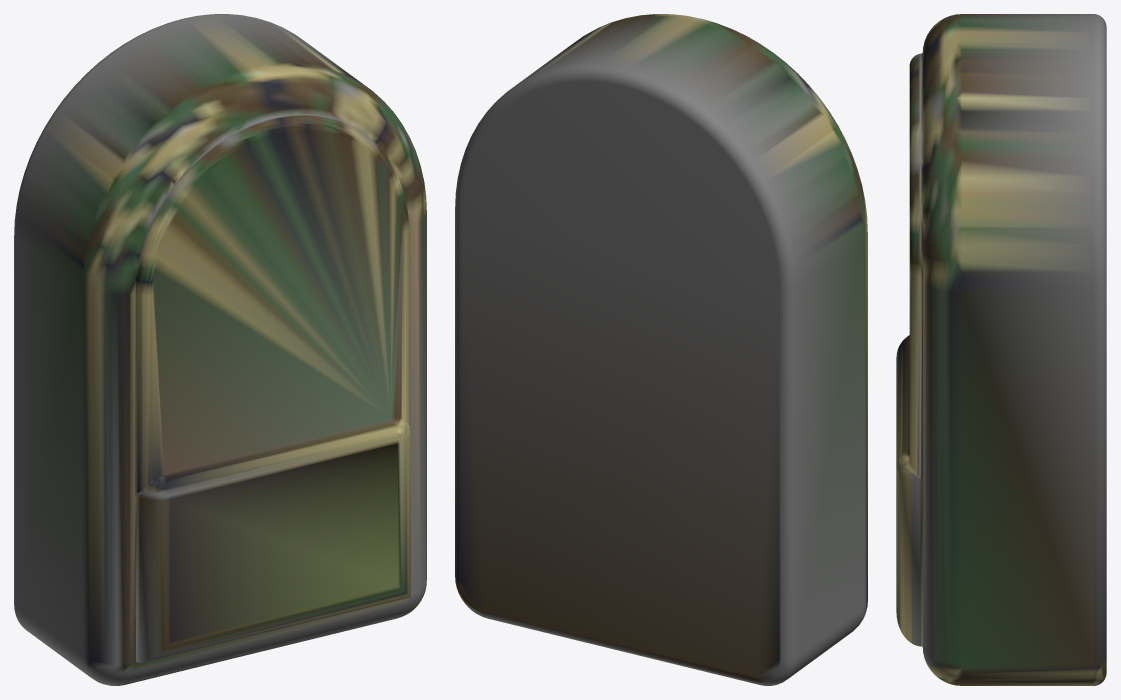
The model's file is backpack_obj_paint.obj.
3 views of the same model, side by side, from view 1: azimuth 30°, elevation 25°; view 2: azimuth 150°, elevation 25°; view 3: azimuth 270°, elevation 25° (orthographic).
Bounding box in the file's own units: 300 × 490 × 160.
